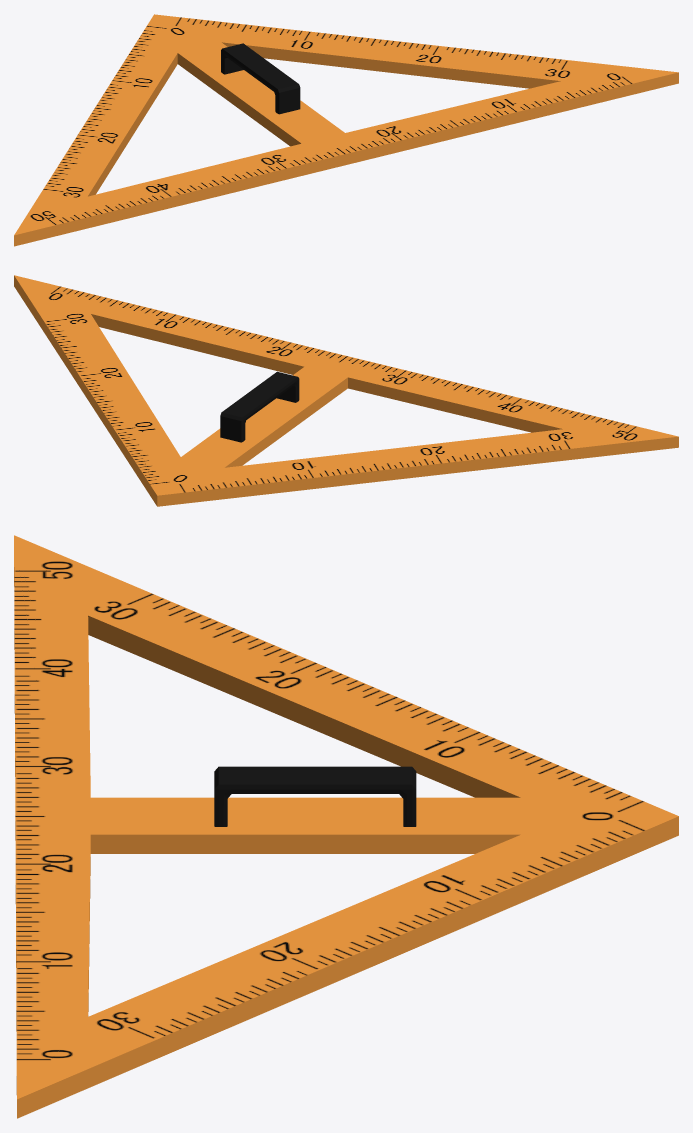
Rendered from SetSquare45.obj.
3 renders of one model, top to bottom at view 1: azimuth 30°, elevation 25°; view 2: azimuth 150°, elevation 25°; view 3: azimuth 270°, elevation 25°, orthographic. The views are drawn at different scales.
Visible parts, largest first — view 1: SetSquare45.001_SetSquare45.001_lambert2SG.001, SetSquare45.001_SetSquare45.001_pasted__lambert5SG.002; view 2: SetSquare45.001_SetSquare45.001_lambert2SG.001, SetSquare45.001_SetSquare45.001_pasted__lambert5SG.002; view 3: SetSquare45.001_SetSquare45.001_lambert2SG.001, SetSquare45.001_SetSquare45.001_pasted__lambert5SG.002.
Part boxes in pixels (x1,y1,x2,y2): SetSquare45.001_SetSquare45.001_lambert2SG.001: [14, 14, 678, 246]; SetSquare45.001_SetSquare45.001_pasted__lambert5SG.002: [221, 43, 300, 114]; SetSquare45.001_SetSquare45.001_lambert2SG.001: [14, 275, 678, 506]; SetSquare45.001_SetSquare45.001_pasted__lambert5SG.002: [220, 371, 299, 442]; SetSquare45.001_SetSquare45.001_lambert2SG.001: [14, 535, 678, 1118]; SetSquare45.001_SetSquare45.001_pasted__lambert5SG.002: [214, 766, 416, 826].
Size of the model in its own units: 1.55 by 0.0787 by 0.7728.
